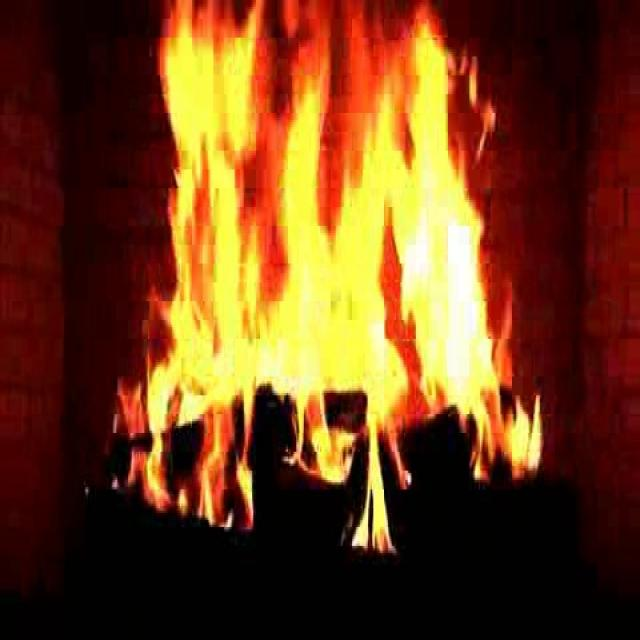fire: (153, 13, 494, 514)
